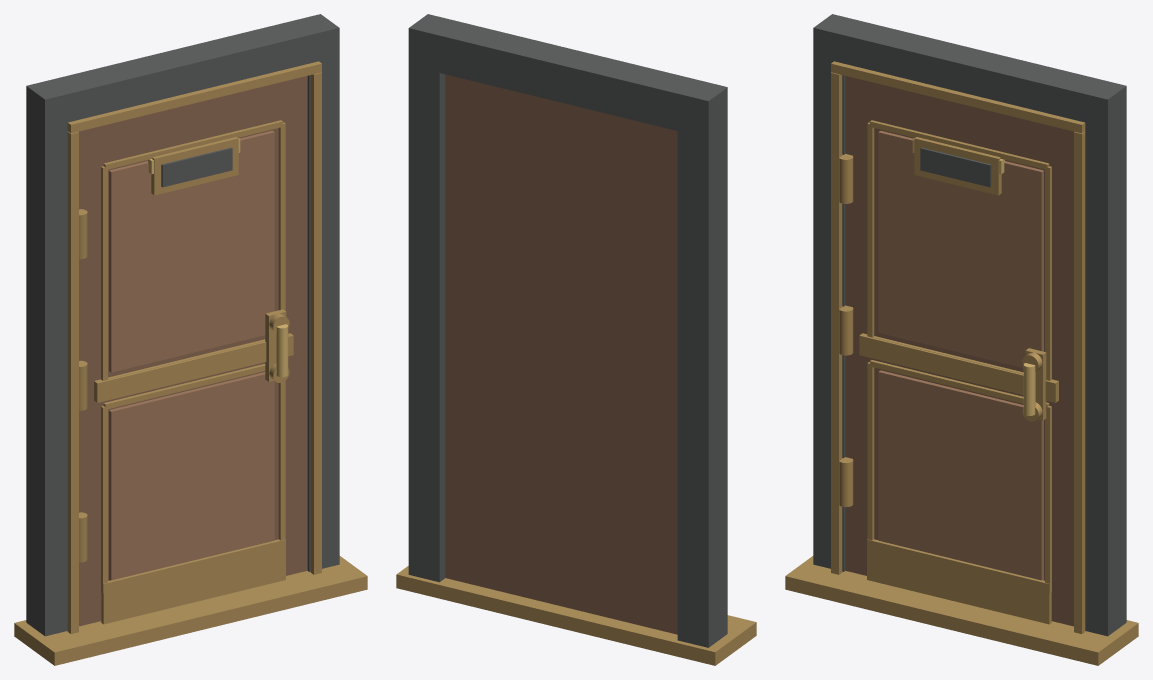
File: staff_room_door.glb
The picture shows the model from 3 angles, left to right: view 1: azimuth 30°, elevation 25°; view 2: azimuth 150°, elevation 25°; view 3: azimuth 330°, elevation 25°; orthographic projection.
Parts seen in each view (by area): view 1: door_leaf, upper_panel, lower_panel, frame_left, frame_header, frame_right, threshold, kick_plate, frame_gold_left, frame_gold_right, center_rail, frame_gold_top (+10 smaller); view 2: door_leaf, frame_left, frame_right, frame_header, threshold; view 3: door_leaf, upper_panel, lower_panel, frame_right, frame_header, frame_left, threshold, kick_plate, frame_gold_right, frame_gold_left, center_rail, frame_gold_top (+13 smaller).
Boxes of the visible parts, x1,y1,x2,y2 form: door_leaf: (79, 76, 307, 626); upper_panel: (109, 130, 274, 372); lower_panel: (109, 372, 274, 580); frame_left: (26, 78, 75, 636); frame_header: (26, 14, 339, 135); frame_right: (291, 14, 339, 571); threshold: (14, 556, 367, 665); kick_plate: (101, 539, 285, 624); frame_gold_left: (67, 131, 78, 633); frame_gold_right: (310, 72, 321, 574); center_rail: (94, 333, 293, 402); frame_gold_top: (67, 61, 321, 133); door_leaf: (445, 74, 677, 634); frame_left: (677, 80, 727, 647); frame_right: (408, 14, 458, 582); frame_header: (408, 15, 727, 138); threshold: (396, 566, 756, 665); door_leaf: (845, 76, 1073, 626); upper_panel: (878, 130, 1043, 367); lower_panel: (878, 370, 1043, 580); frame_right: (1077, 78, 1126, 636); frame_header: (813, 14, 1126, 135); frame_left: (813, 14, 861, 571); threshold: (785, 556, 1138, 665); kick_plate: (867, 539, 1051, 624); frame_gold_right: (1074, 131, 1085, 633); frame_gold_left: (831, 72, 842, 574); center_rail: (859, 333, 1058, 402); frame_gold_top: (831, 61, 1085, 133).
Bounding box in the file's own units: 1.34 × 2.25 × 0.3.
